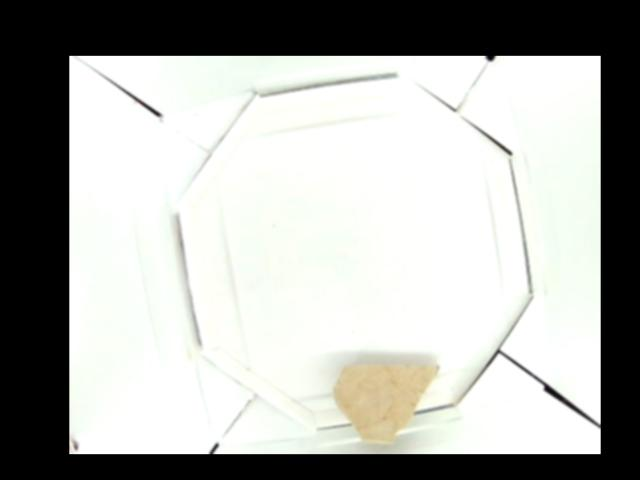China: (334, 363, 442, 445)
